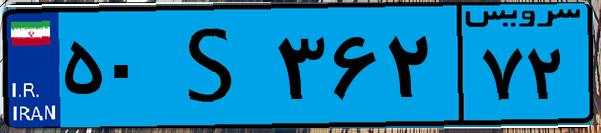0: (110, 28, 158, 98)
2: (385, 28, 445, 110), (525, 38, 570, 115)
3: (270, 28, 330, 110)
5: (57, 26, 110, 100)
6: (330, 28, 385, 110)
7: (475, 38, 525, 113)
S: (158, 12, 270, 120)
